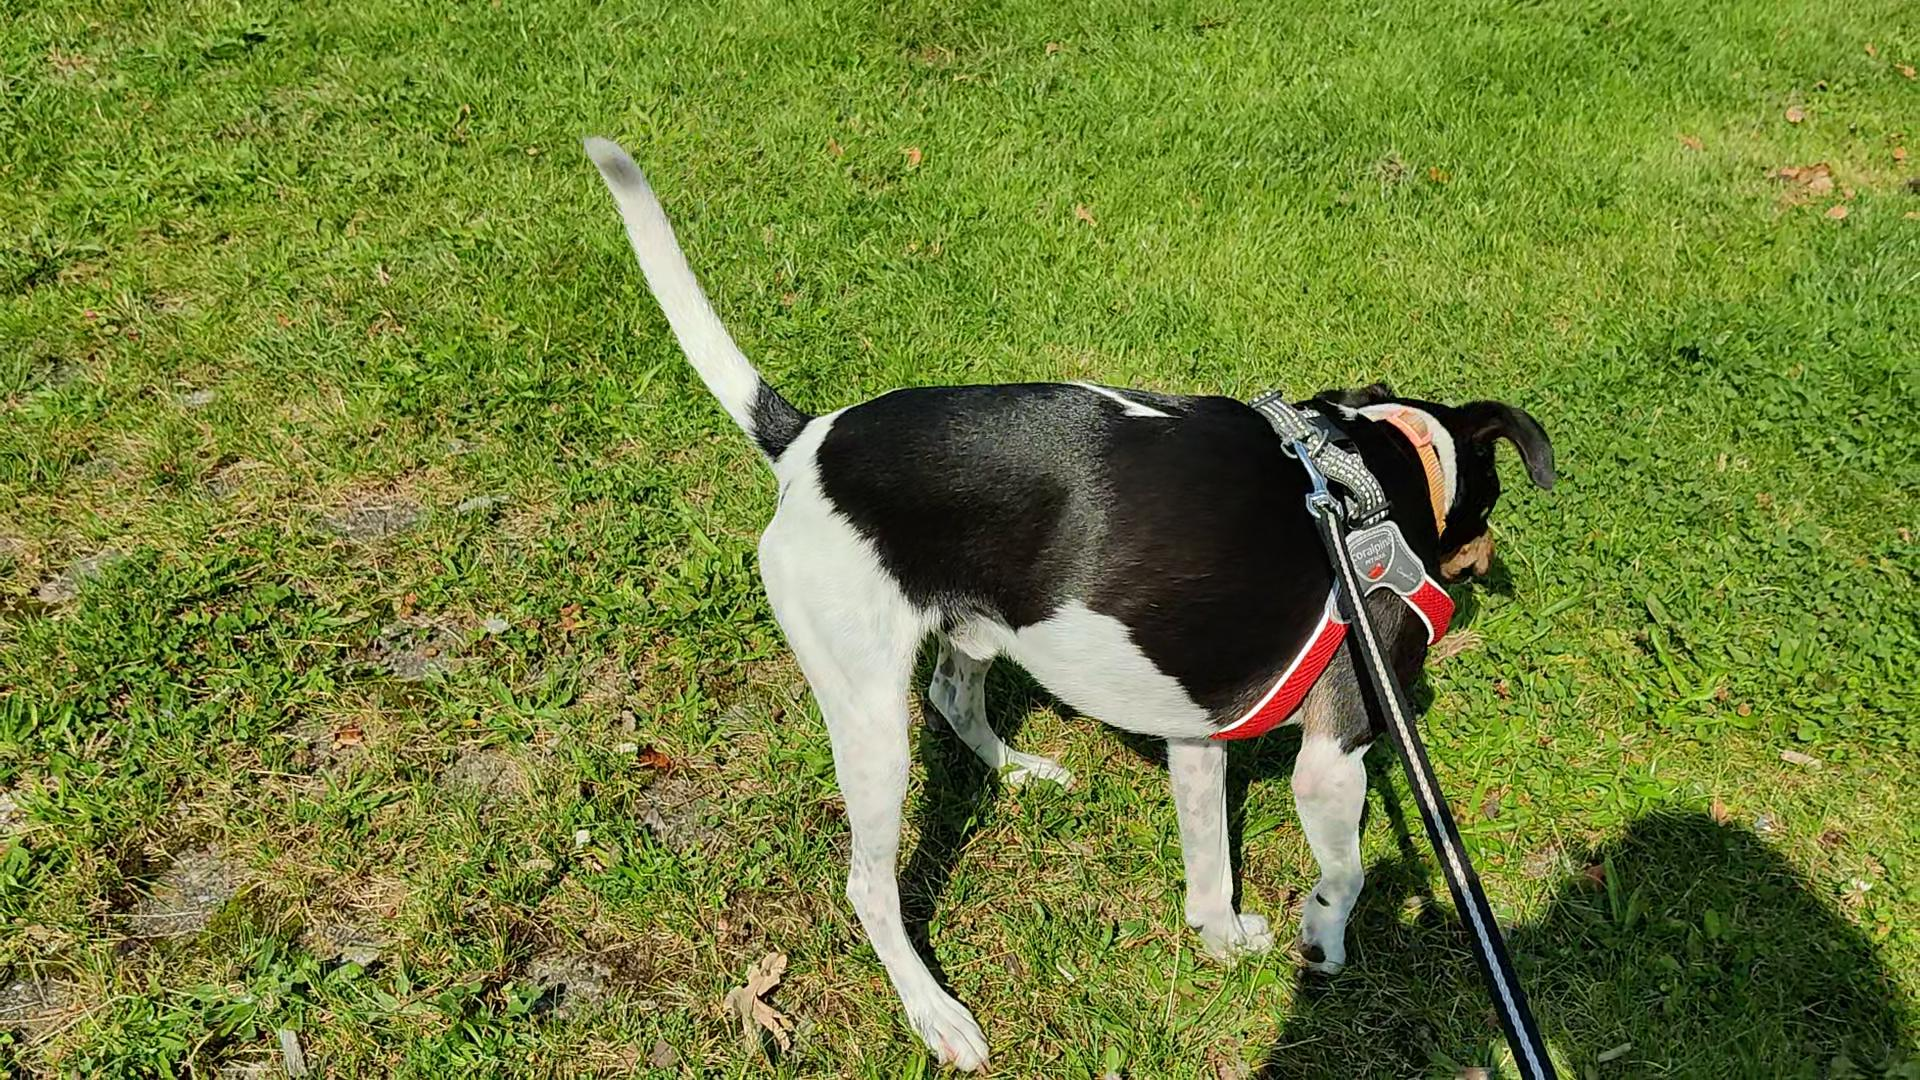Dog: (575, 109, 1572, 1079)
